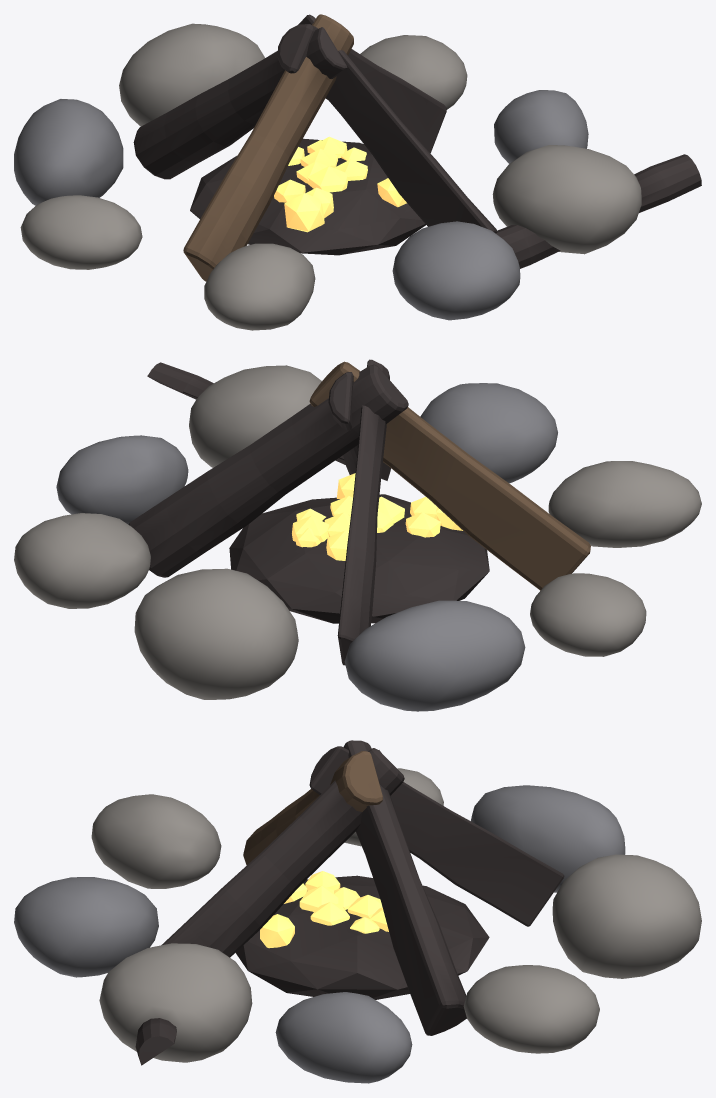
File: campfire.6c58365f.glb
3 views of the same model, one above another, from view 1: azimuth 30°, elevation 25°; view 2: azimuth 150°, elevation 25°; view 3: azimuth 270°, elevation 25° (orthographic). The views are drawn at different scales.
Visible parts, largest first — view 1: campfire; view 2: campfire; view 3: campfire.
Part boxes in pixels (x1,y1,x2,y2): campfire: (14,14,701,330); campfire: (14,359,701,711); campfire: (14,740,701,1083).
Size of the model in its own units: 1.31 by 0.4742 by 1.31.
